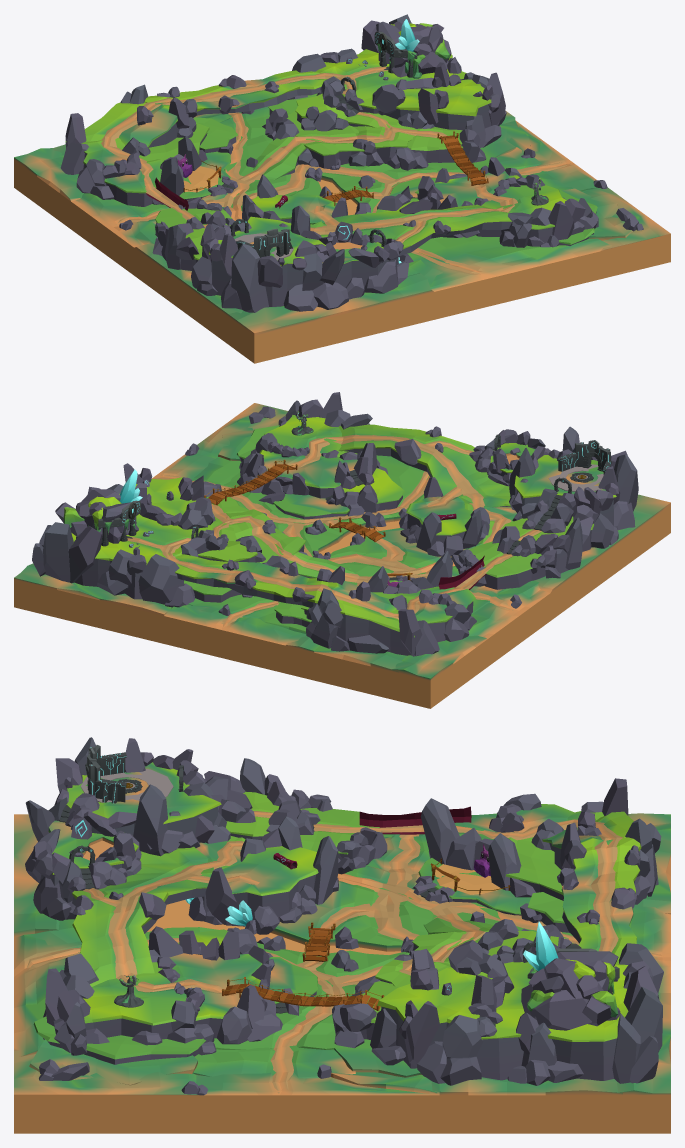
3 views of the same model, one above another, from view 1: azimuth 30°, elevation 25°; view 2: azimuth 150°, elevation 25°; view 3: azimuth 270°, elevation 25° (orthographic). The views are drawn at different scales.
Parts seen in each view (by area): view 1: Terrain, Rocks, Road, TempleB, TempleA, Bridge, Corral; view 2: Terrain, Rocks, Road, TempleB, TempleA, Bridge, BridgeTrunk; view 3: Terrain, Rocks, Road, TempleB, TempleA, Bridge, Corral, BridgeTrunk.
Boxes of the visible parts, bbox=[...] form: Terrain: bbox=[14, 49, 670, 363]; Rocks: bbox=[60, 14, 643, 312]; Road: bbox=[100, 66, 570, 273]; TempleB: bbox=[341, 19, 482, 96]; TempleA: bbox=[231, 219, 385, 260]; Bridge: bbox=[320, 131, 488, 205]; Corral: bbox=[177, 154, 221, 192]; Terrain: bbox=[14, 403, 670, 708]; Rocks: bbox=[32, 392, 638, 656]; Road: bbox=[127, 434, 541, 627]; TempleB: bbox=[55, 469, 198, 555]; TempleA: bbox=[493, 434, 611, 493]; Bridge: bbox=[204, 459, 385, 541]; BridgeTrunk: bbox=[438, 555, 486, 589]; Terrain: bbox=[14, 762, 670, 1133]; Rocks: bbox=[25, 737, 663, 1095]; Road: bbox=[27, 811, 664, 1093]; TempleB: bbox=[441, 921, 620, 1030]; TempleA: bbox=[69, 745, 183, 864]; Bridge: bbox=[222, 922, 384, 1010]; Corral: bbox=[430, 844, 510, 895]; BridgeTrunk: bbox=[359, 806, 471, 834].
Size of the model in its own units: 200 by 55.23 by 200.
Materials: 1 (1 with a texture image).
